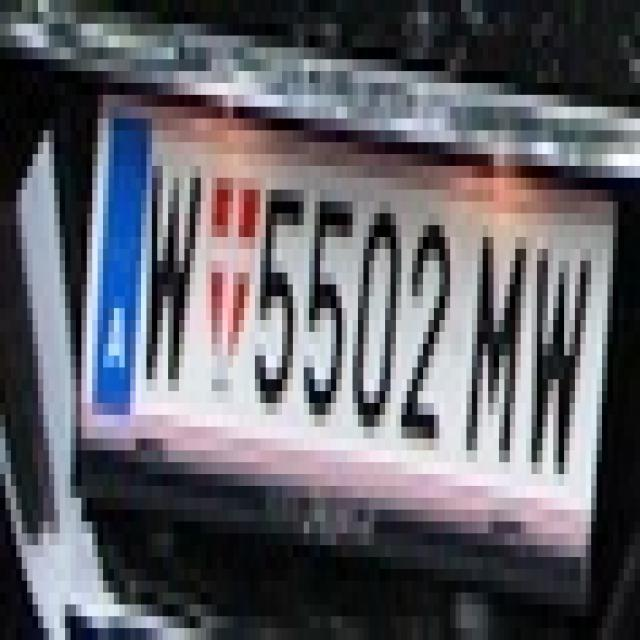LicensePlate: (77, 81, 598, 559)
